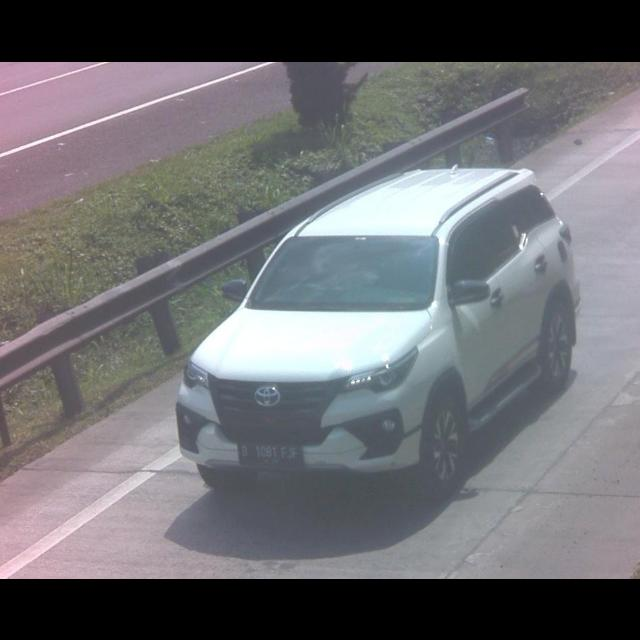plate: (237, 439, 305, 467)
